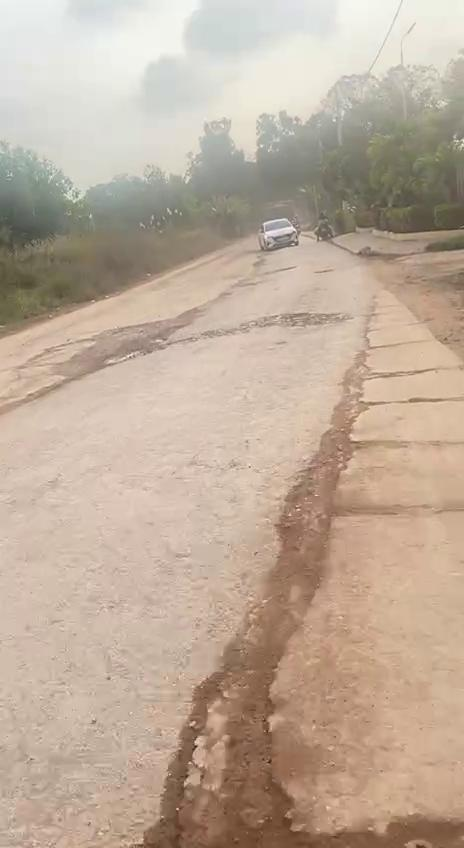pothole: (140, 656, 302, 848)
